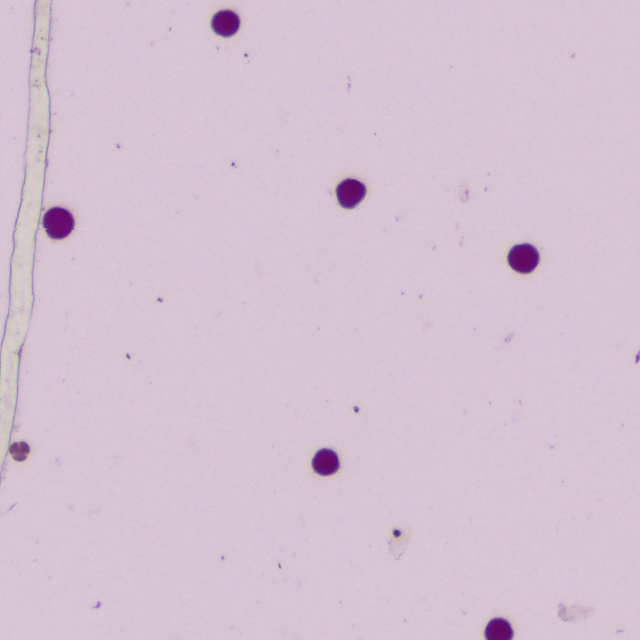viable: (44, 208, 74, 238), (508, 244, 538, 273), (337, 179, 365, 208), (212, 10, 239, 37), (313, 450, 339, 475), (486, 619, 513, 639), (10, 442, 29, 461)
